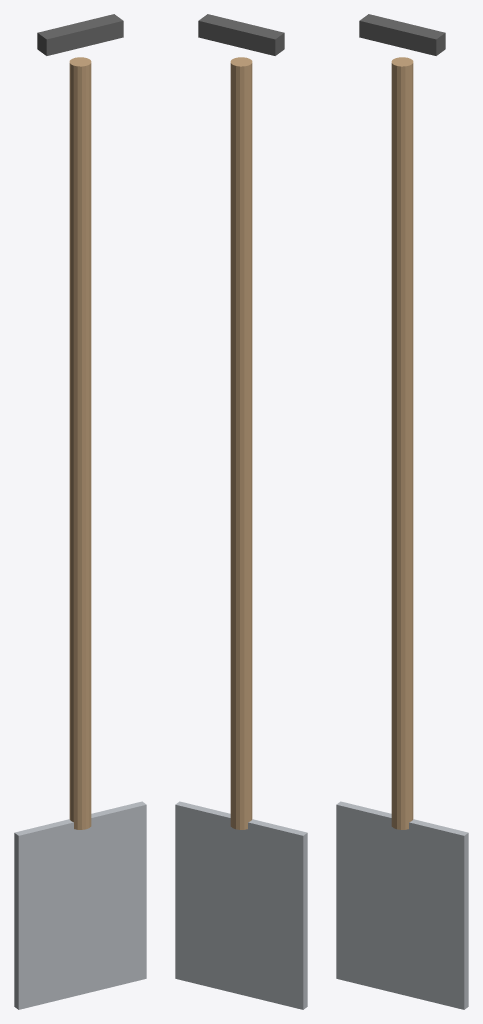
File: shovel.glb
3 renders of one model, left to right at view 1: azimuth 30°, elevation 25°; view 2: azimuth 150°, elevation 25°; view 3: azimuth 330°, elevation 25°, orthographic.
Parts seen in each view (by area): view 1: shovel; view 2: shovel; view 3: shovel.
Boxes of the visible parts, <box> form: shovel: <box>14,14,146,1009</box>; shovel: <box>175,14,307,1009</box>; shovel: <box>336,14,468,1009</box>.
Size of the model in its own units: 0.2 by 1.44 by 0.03.
